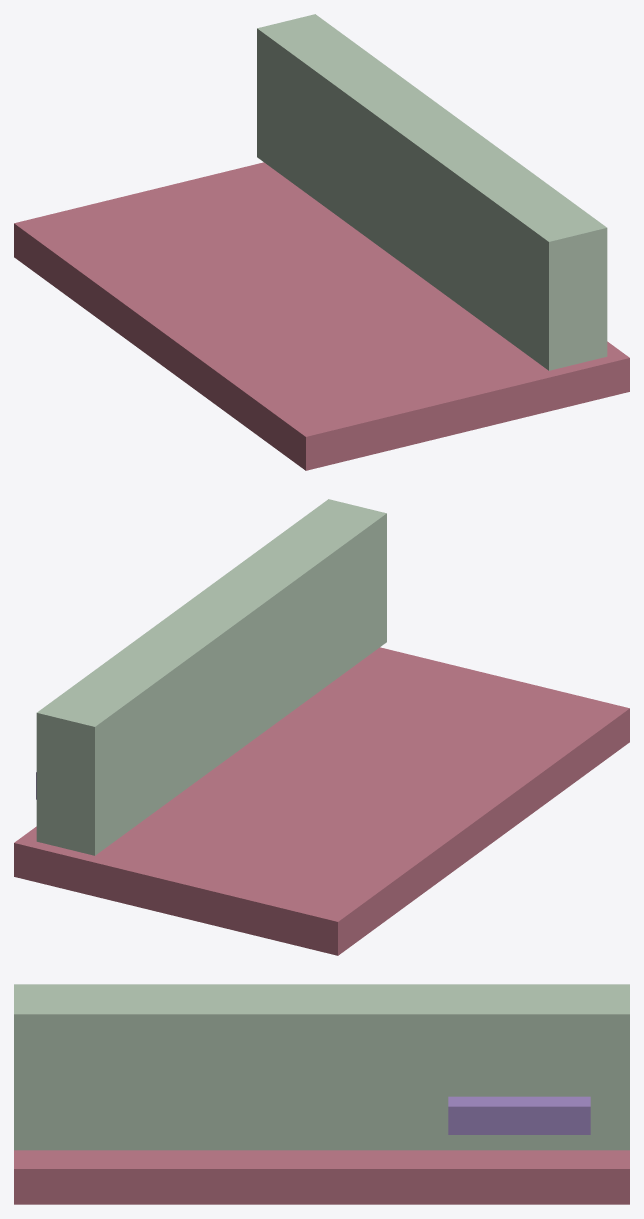
Rendered from 199520_pred.glb.
3 renders of one model, top to bottom at view 1: azimuth 30°, elevation 25°; view 2: azimuth 150°, elevation 25°; view 3: azimuth 270°, elevation 25°, orthographic. The views are drawn at different scales.
Visible parts, largest first — view 1: world; view 2: world; view 3: world.
Part boxes in pixels (x1=…): world: x1=14, y1=14, x2=629, y2=470; world: x1=14, y1=499, x2=629, y2=955; world: x1=14, y1=984, x2=629, y2=1204.
Size of the model in its own units: 5 by 2.5 by 7.8.
